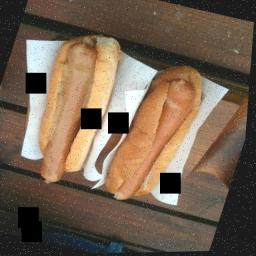hotdog: (19, 26, 130, 194), (102, 56, 212, 213)
